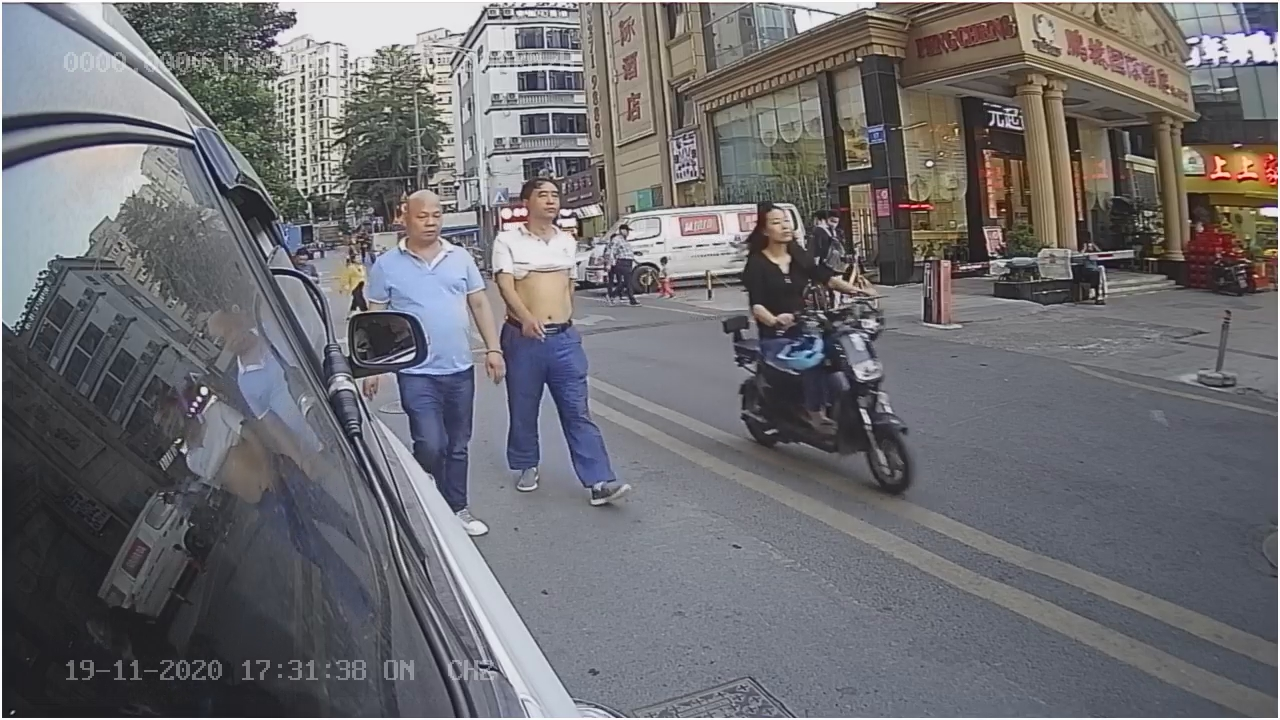person: (491, 183, 607, 494), (739, 205, 836, 303)
